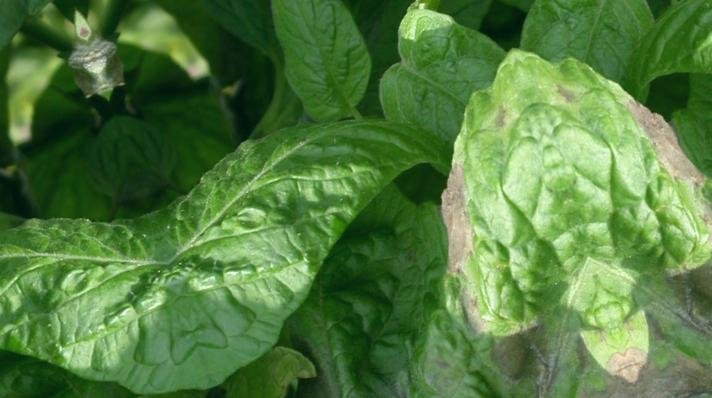Tomato leaf late blight: (193, 0, 665, 398), (58, 0, 401, 52)
